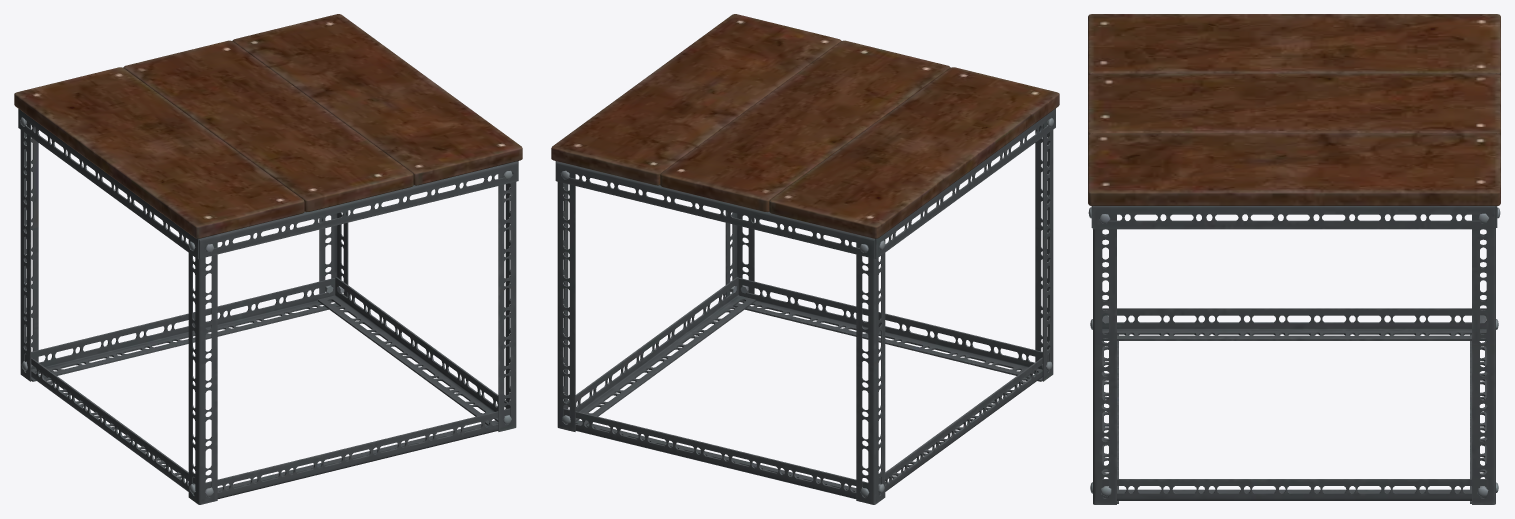
The model's file is industrial_coffee_table.glb.
The picture shows the model from 3 angles, left to right: view 1: azimuth 30°, elevation 25°; view 2: azimuth 150°, elevation 25°; view 3: azimuth 270°, elevation 25°; orthographic projection. The views are drawn at different scales.
Parts seen in each view (by area): view 1: industrial_coffee_table; view 2: industrial_coffee_table; view 3: industrial_coffee_table.
Boxes of the visible parts, x1,y1,x2,y2 form: industrial_coffee_table: (14,14,522,504); industrial_coffee_table: (551,14,1059,504); industrial_coffee_table: (1088,14,1500,504).
Size of the model in its own units: 0.7783 by 0.6384 by 0.7579.
Materials: 1 (1 with a texture image).
